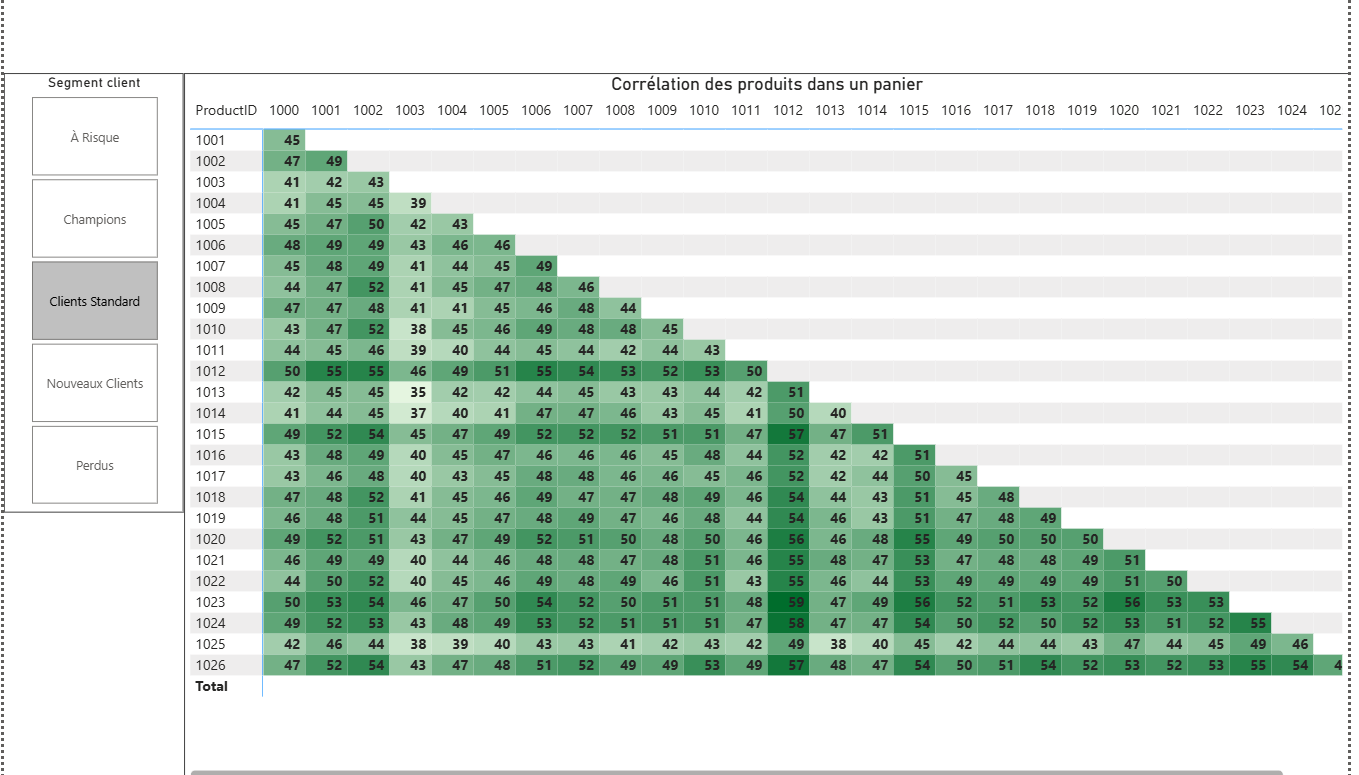

The page's visual inventory and layout, read from the dashboard file:
{"tool":"powerbi","page":{"name":"basket analysis","canvas":[1280,750],"ordinal":3},"visuals":[{"type":"pivotTable","title":"Corrélation des produits dans un panier ","fields":{"Columns":["Produits_Comparaison.ProductID"],"Rows":["FactTransaction.ProductID"],"Values":["Produits_Comparaison.Nb_Clients_Communs"]},"box":[171,71,1109,679],"z":0},{"type":"slicer","title":"Segment client","fields":{"Values":["Table_RFM.Segment_Client"]},"box":[0,71.4,171,418.4],"z":1000}]}

Visuals, with their boxes on the page's 1280x750 design canvas (x1, y1, x2, y2). These are canvas units, not pixel positions in the 1359x775 screenshot, which may show the page scaled, cropped or inside an application window:
"Corrélation des produits dans un panier " pivotTable: rect(171, 71, 1280, 750)
"Segment client" slicer: rect(0, 71, 171, 490)
